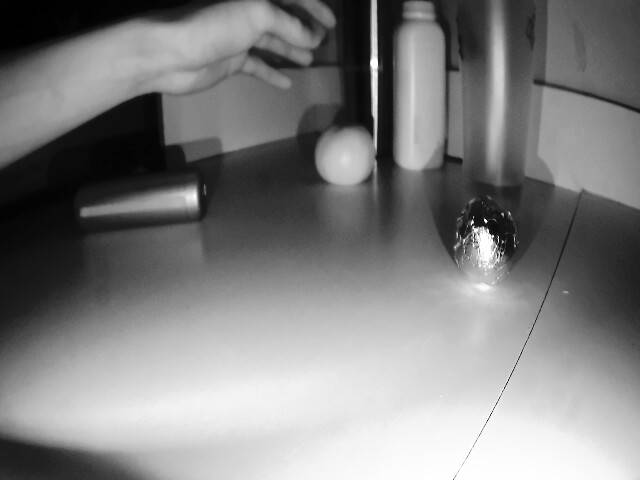silver: (456, 196, 516, 291)
